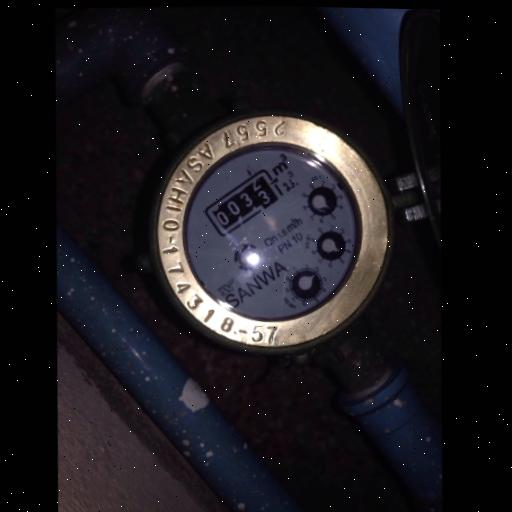0: (220, 194, 248, 224), (209, 203, 235, 231)
2: (246, 173, 280, 210)
3: (233, 184, 262, 215)
border_water_meter_number: (200, 164, 286, 241)
